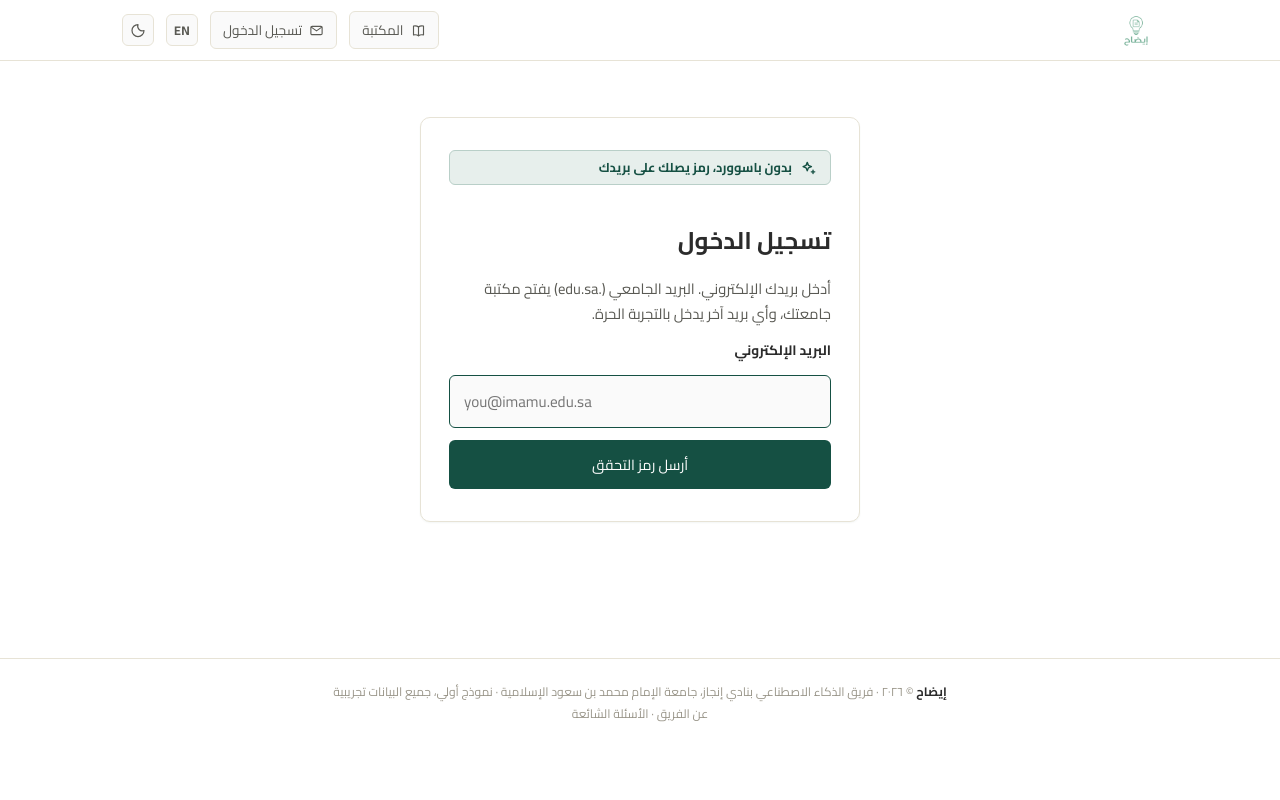
Scenario: فشل الإرسال يعرض رسالة الخطأ ويبقى بخطوة الإيميل
The width and height of the screenshot is (1280, 800).
Type "a@b.co" into the field labelled "البريد الإلكتروني" at [640, 401], box [449,375,831,428]
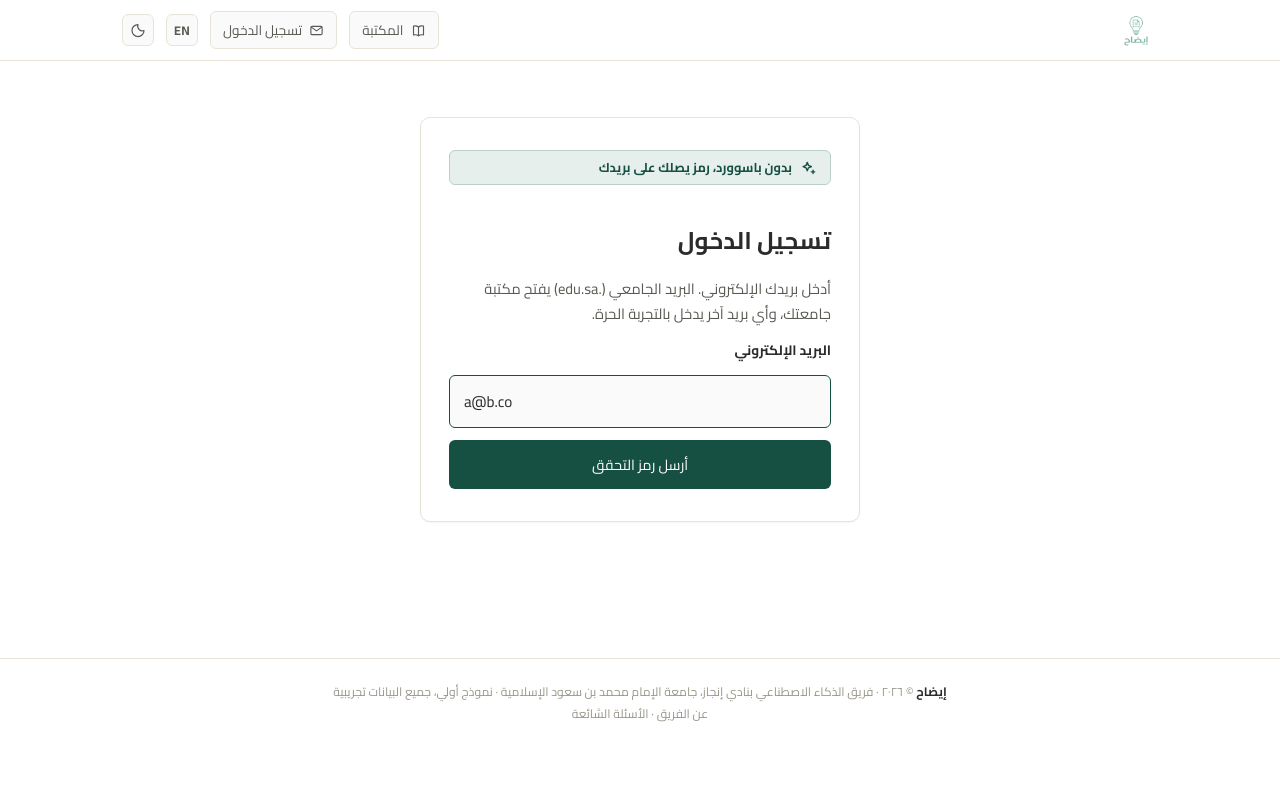
Click the button "أرسل رمز التحقق" at [640, 464], box [449,440,831,489]
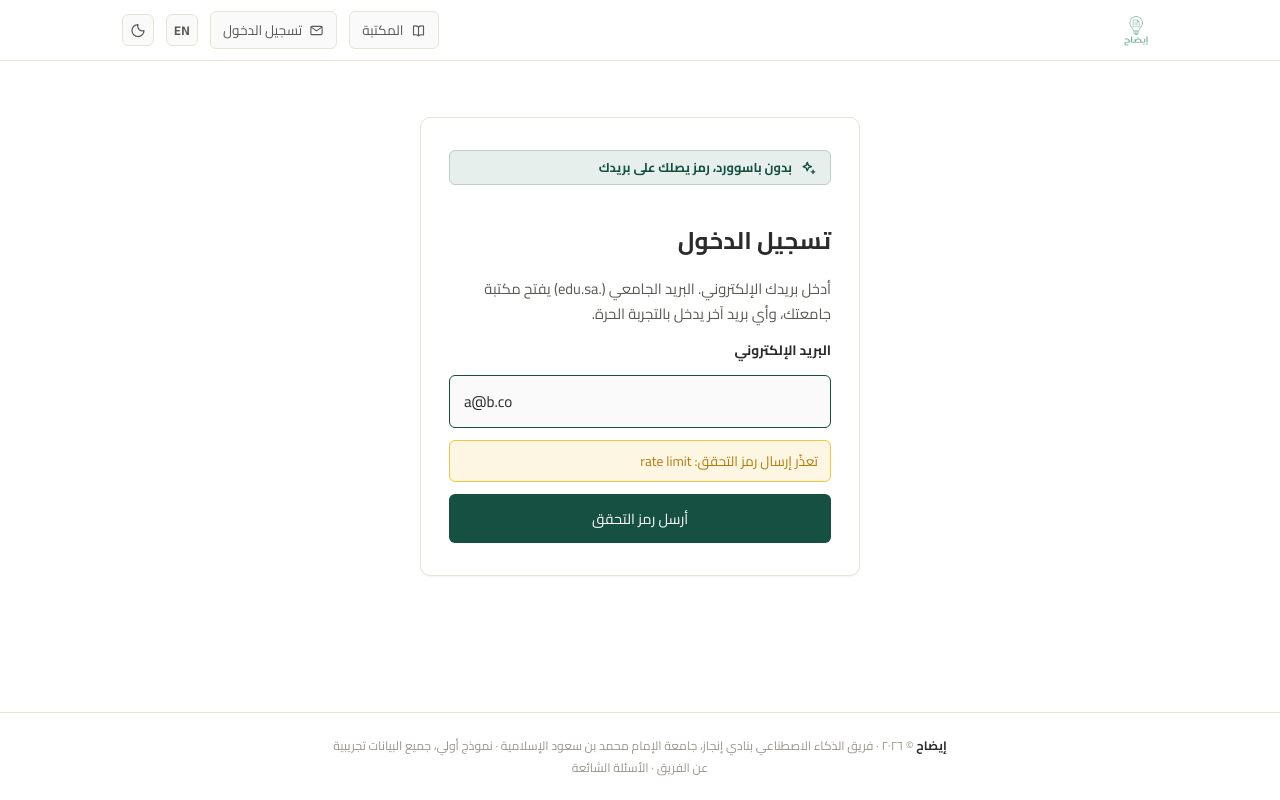
Expected: the message shows "rate limit", [640,448,818,474]
